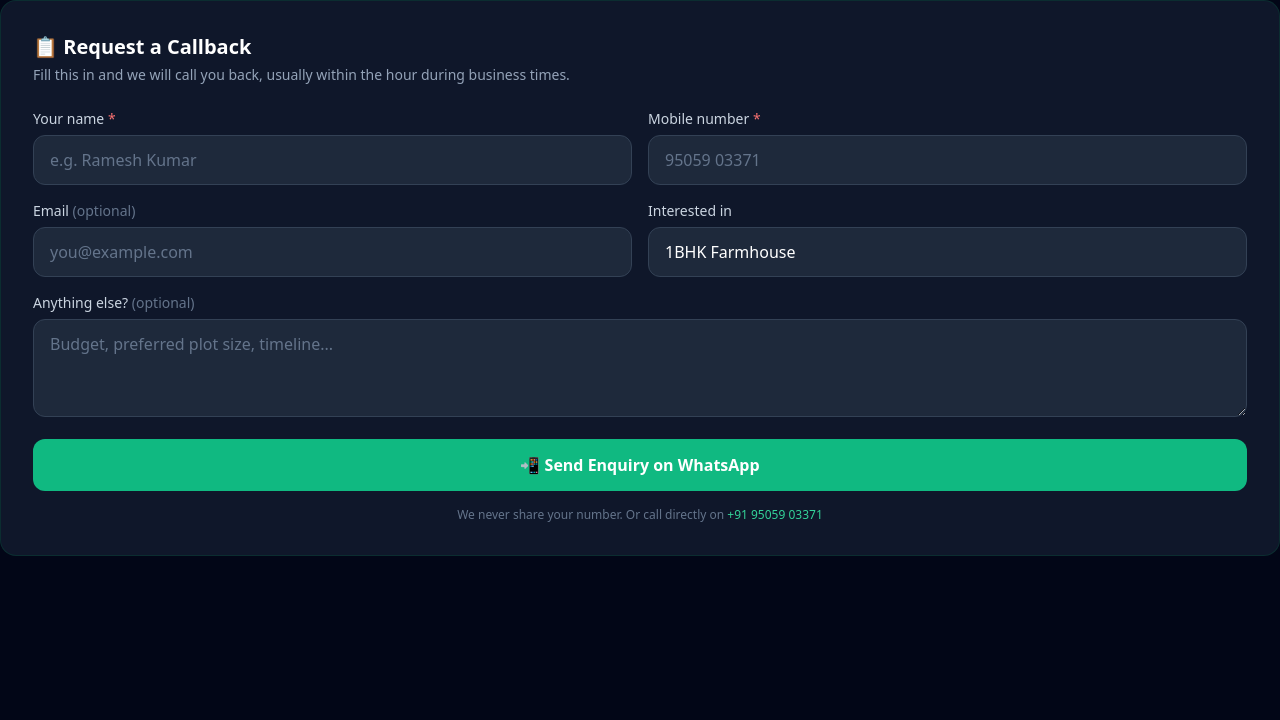
LeadForm › blocks submission and shows errors when required fields are empty
The image size is (1280, 720).
Click the button "📲 Send Enquiry on WhatsApp".
click(640, 465)  # box [33,439,1247,491]
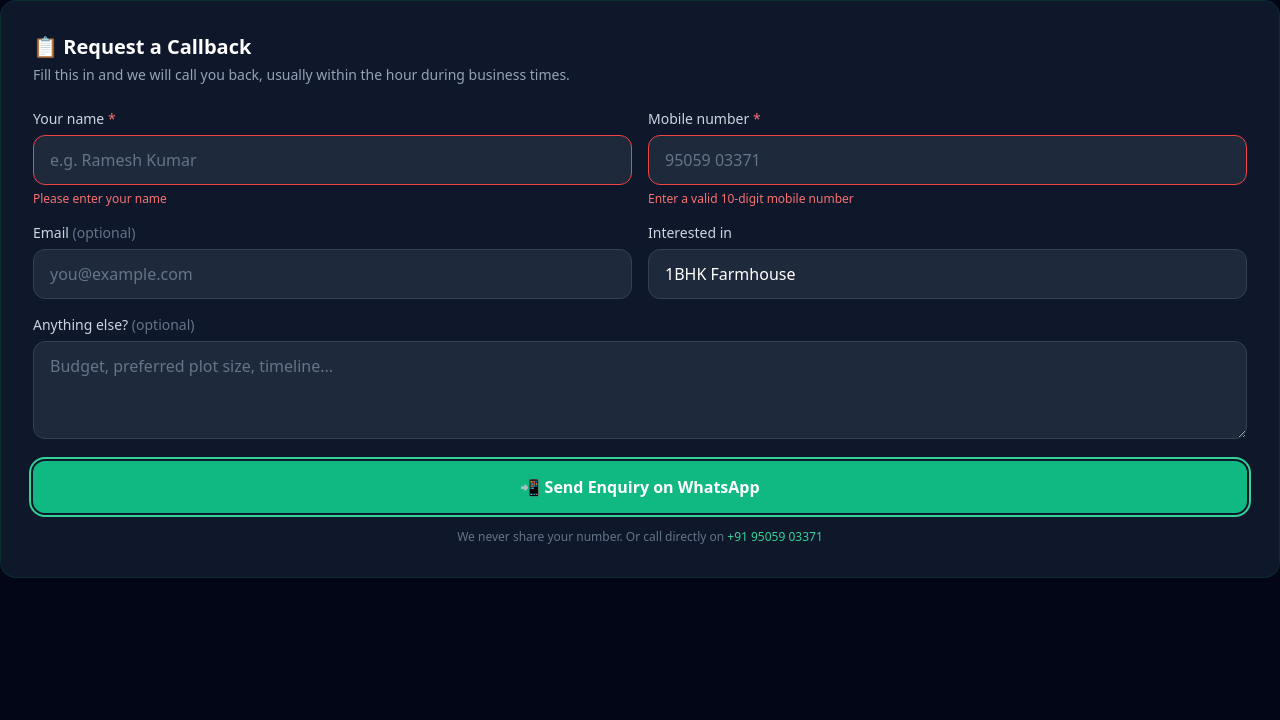
Expected: the text "Please enter your name" is shown, [33,190,167,207]
Expected: the text "Enter a valid 10-digit mobile number" is shown, [648,190,854,207]
